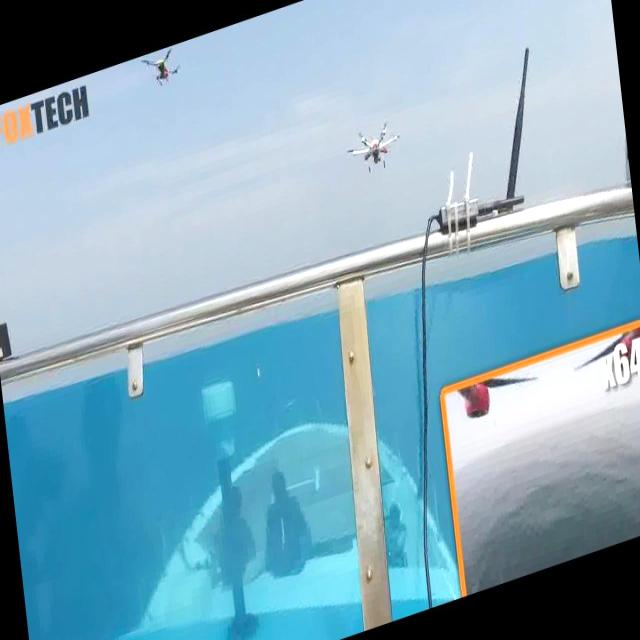drone: (344, 108, 404, 183), (137, 42, 185, 103)
